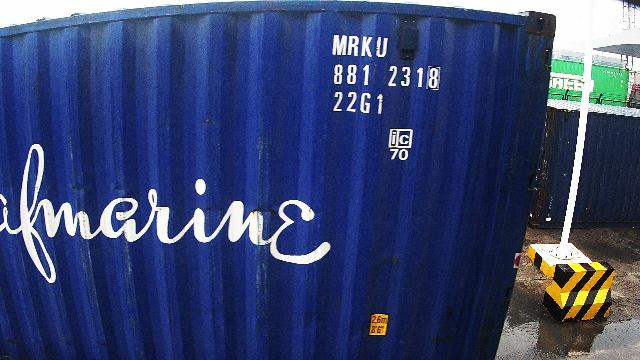1: (416, 66, 424, 88), (362, 64, 370, 86)
2: (388, 66, 398, 86)
3: (401, 66, 412, 86)
8: (426, 66, 440, 90), (347, 63, 358, 85), (333, 63, 343, 84)
K: (361, 35, 374, 57)
M: (332, 34, 348, 56)
R: (348, 34, 360, 56)
U: (376, 36, 388, 58)
